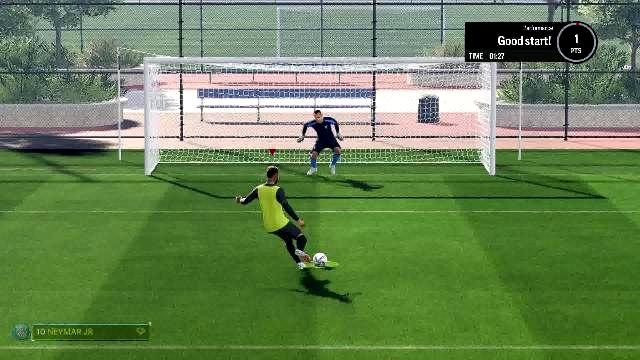bottom-left: (156, 122, 260, 178)
bottom-right: (372, 130, 484, 178)
center-down: (262, 126, 370, 178)
center-up: (263, 66, 371, 124)
circle: (298, 258, 339, 266)
football: (313, 250, 329, 266)
goalkeeper: (301, 96, 344, 178)
player: (238, 163, 308, 283)
top-left: (154, 66, 262, 122)
top-right: (372, 66, 484, 127)
